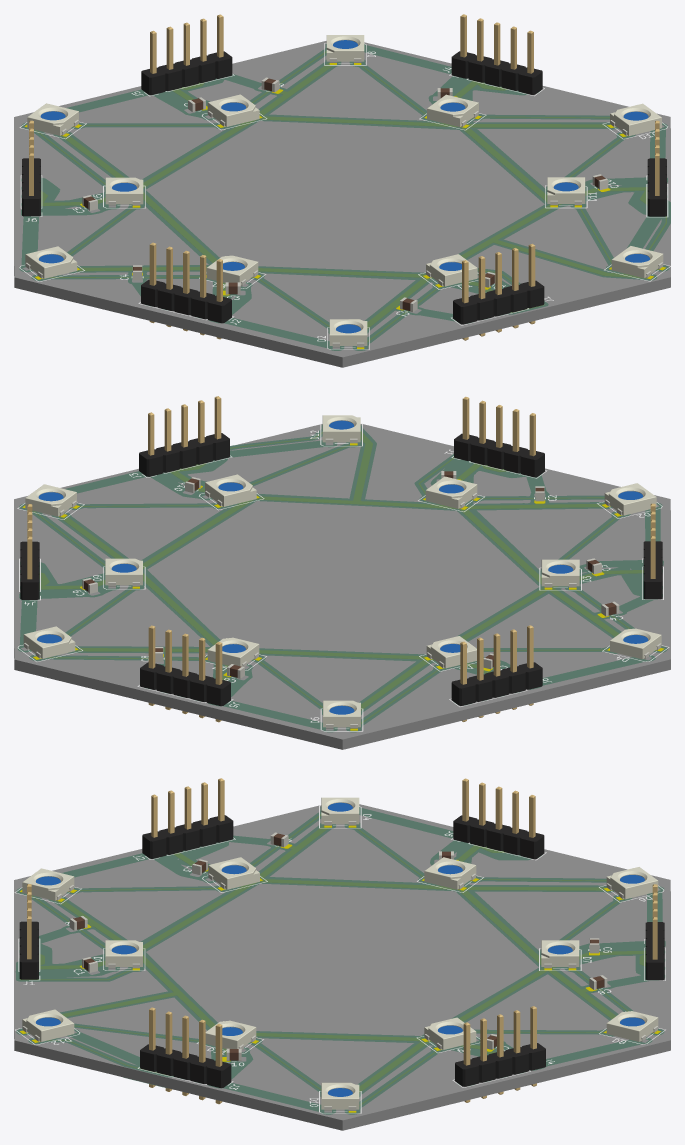
The model's file is hexagon-.glb.
3 views of the same model, one above another, from view 1: azimuth 30°, elevation 25°; view 2: azimuth 150°, elevation 25°; view 3: azimuth 270°, elevation 25° (orthographic).
Parts seen in each view (by area): view 1: =>[0:1:1:8], =>[0:1:1:7], =>[0:1:1:5], J1, J2, J5, J4, =>[0:1:1:6], J3, J6, D12, D4 (+10 smaller); view 2: =>[0:1:1:8], =>[0:1:1:7], =>[0:1:1:5], J5, J6, J3, J1, =>[0:1:1:6], J2, J4, D1, D8 (+10 smaller); view 3: =>[0:1:1:8], =>[0:1:1:7], =>[0:1:1:5], J3, J4, J2, J6, =>[0:1:1:6], J5, J1, D5, D12 (+10 smaller).
Boxes of the visible parts, x1,y1,x2,y2 form: =>[0:1:1:8]: (14, 41, 670, 367); =>[0:1:1:7]: (19, 44, 670, 350); =>[0:1:1:5]: (24, 52, 666, 348); J1: (453, 243, 544, 340); J2: (141, 242, 231, 339); J5: (141, 14, 232, 95); J4: (451, 14, 542, 94); =>[0:1:1:6]: (19, 43, 670, 349); J3: (647, 120, 666, 216); J6: (22, 120, 40, 216); D12: (611, 246, 663, 278); D4: (25, 246, 77, 278); =>[0:1:1:8]: (14, 424, 670, 749); =>[0:1:1:7]: (17, 425, 667, 732); =>[0:1:1:5]: (22, 432, 664, 730); J5: (140, 625, 230, 722); J6: (451, 625, 542, 721); J3: (139, 396, 229, 476); J1: (454, 396, 544, 477); =>[0:1:1:6]: (17, 423, 669, 731); J2: (643, 503, 662, 599); J4: (20, 504, 39, 599); D1: (425, 476, 477, 508); D8: (23, 626, 75, 658); =>[0:1:1:8]: (14, 804, 670, 1130); =>[0:1:1:7]: (15, 807, 665, 1114); =>[0:1:1:5]: (20, 815, 660, 1112); J3: (140, 1007, 231, 1104); J4: (455, 1006, 545, 1102); J2: (142, 778, 233, 858); J6: (453, 778, 544, 859); =>[0:1:1:6]: (14, 805, 665, 1113); J5: (645, 884, 664, 980); J1: (19, 884, 38, 979); D5: (424, 857, 476, 889); D12: (22, 1009, 74, 1041).
Bounding box in the file's own units: 0.1 × 0.0115 × 0.0866.
